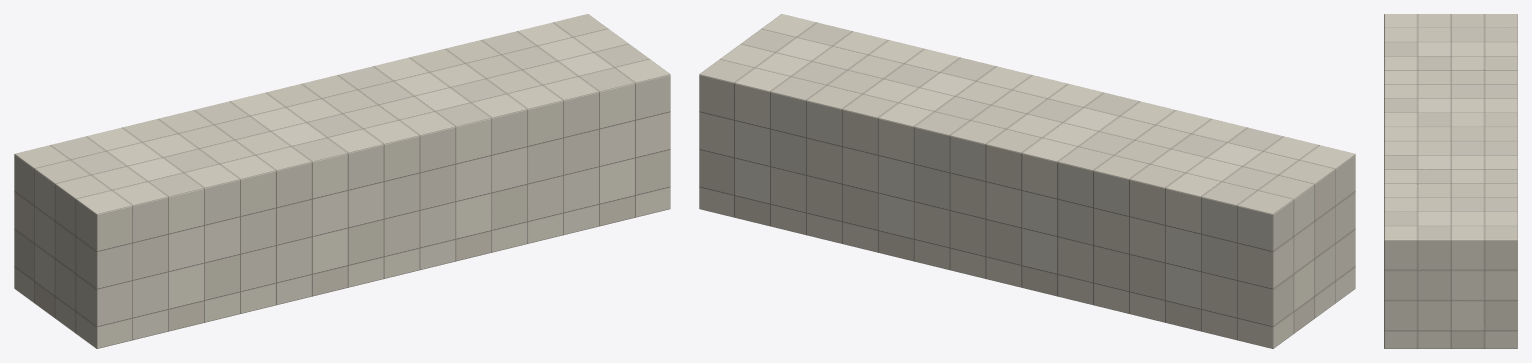
The model's file is MOD_38_Walkway_Narrow.glb.
3 views of the same model, side by side, from view 1: azimuth 30°, elevation 25°; view 2: azimuth 150°, elevation 25°; view 3: azimuth 270°, elevation 25° (orthographic). The views are drawn at different scales.
Parts seen in each view (by area): view 1: MOD_38_Walkway_Narrow_Export; view 2: MOD_38_Walkway_Narrow_Export; view 3: MOD_38_Walkway_Narrow_Export.
Part boxes in pixels (box(x1,y1,x2,y2)): MOD_38_Walkway_Narrow_Export: box(14, 14, 670, 348); MOD_38_Walkway_Narrow_Export: box(699, 14, 1355, 348); MOD_38_Walkway_Narrow_Export: box(1384, 14, 1517, 348).
Size of the model in its own units: 4 by 0.9 by 1.
Materials: 1 (1 with a texture image).
